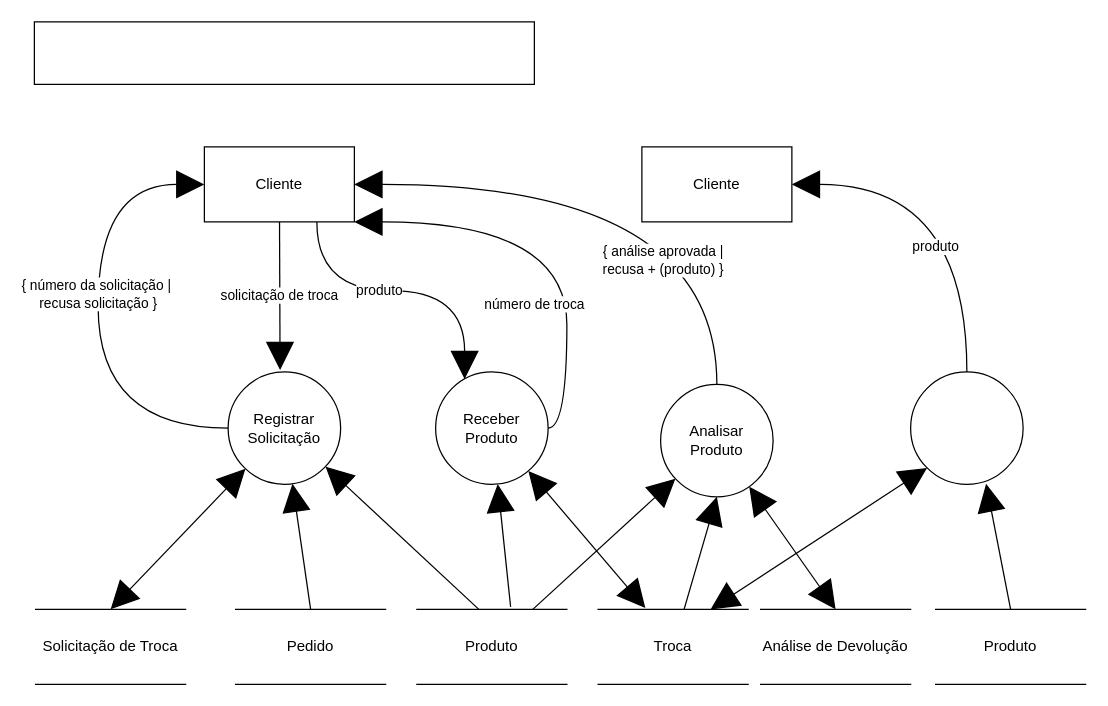
Some shapes in this 1108 by 706 pixel diagram are drawn without their labels. The centre of each missing label's shape, as x and y in pixels:
"DFD - Tratar troca do pedido" belongs at (283,52).
"Entregar Produto" belongs at (966,427).
